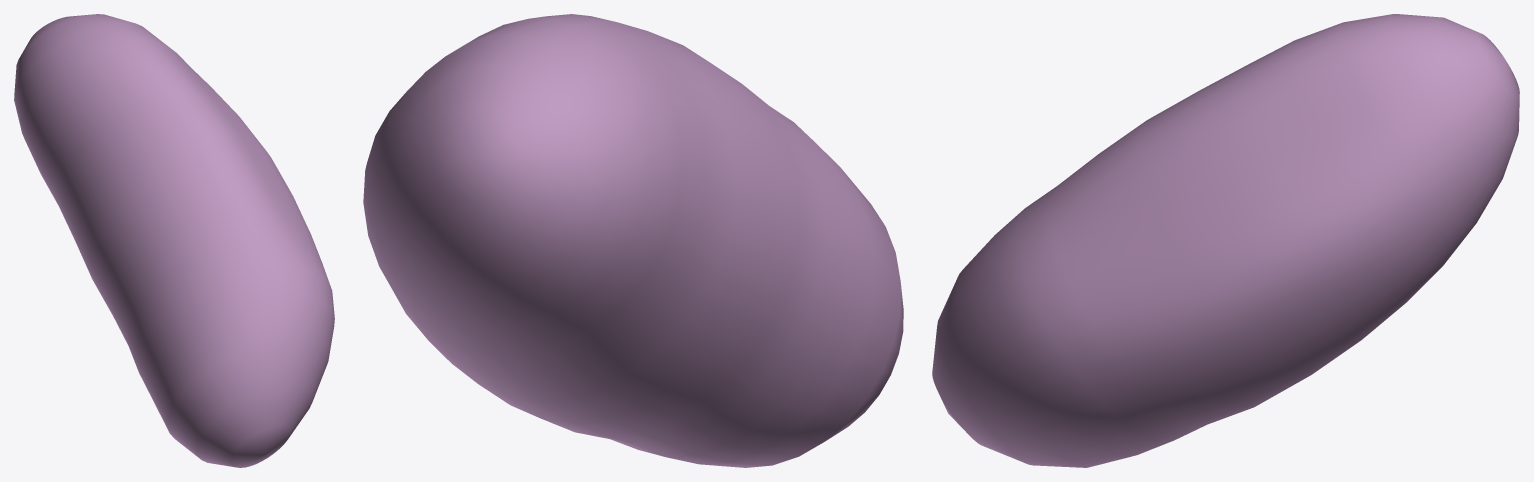
The picture shows the model from 3 angles, left to right: view 1: azimuth 30°, elevation 25°; view 2: azimuth 150°, elevation 25°; view 3: azimuth 270°, elevation 25°; orthographic projection. The views are drawn at different scales.
Parts seen in each view (by area): view 1: 左侧锥体; view 2: 左侧锥体; view 3: 左侧锥体.
Boxes of the visible parts, box(x1,y1,x2,y2) form: 左侧锥体: box(14, 14, 334, 467); 左侧锥体: box(363, 14, 903, 467); 左侧锥体: box(932, 14, 1519, 467).
Bounding box in the file's own units: 0.00991 × 0.0162 × 0.0197.
